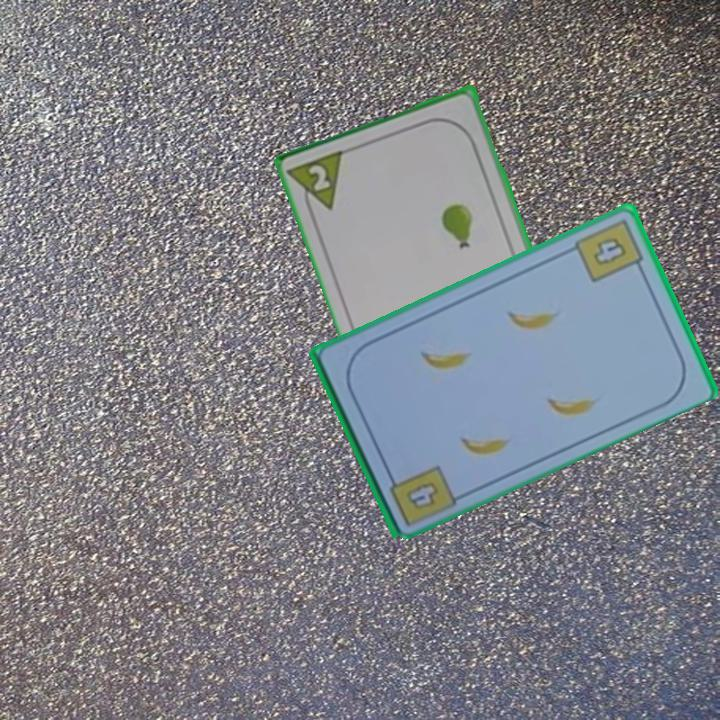2p: (286, 146, 349, 222)
4b: (571, 215, 647, 285), (402, 477, 442, 512)
